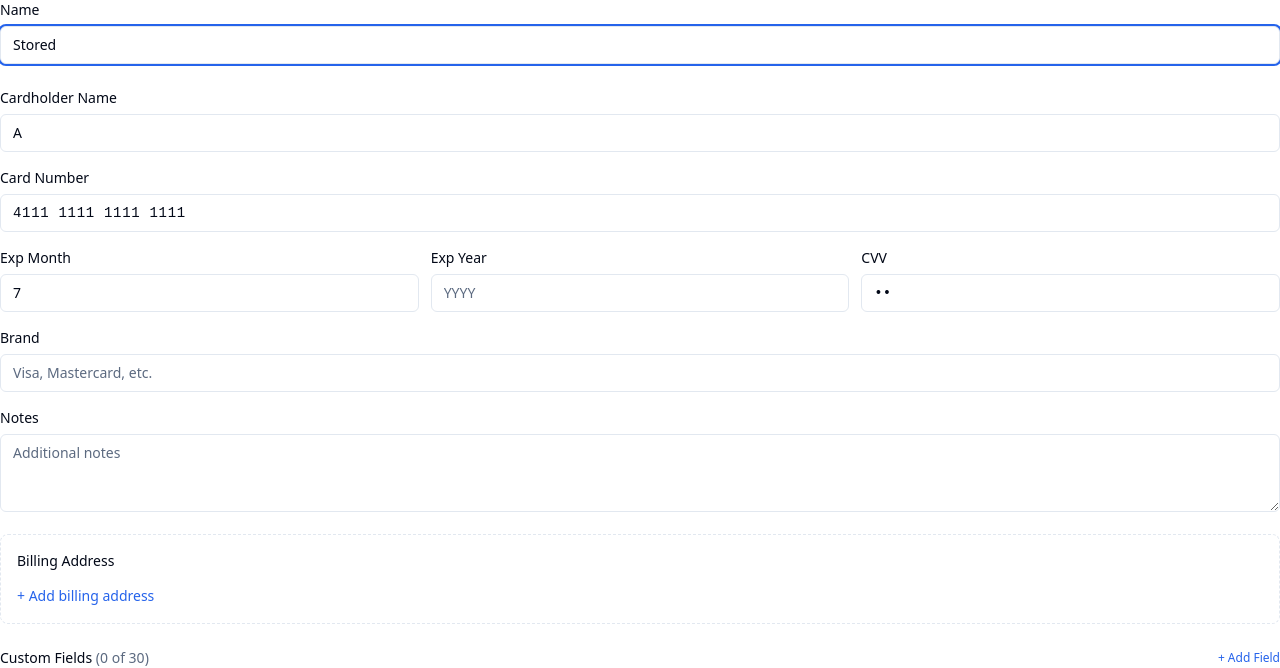
Scenario: untouched stored values never block a save › still applies the rules to a value the person changes
The width and height of the screenshot is (1280, 668).
Type "1" into the password field with placeholder "CVV" at point(1071, 293), box left=861, top=274, right=1279, bottom=312
(page scrolled)
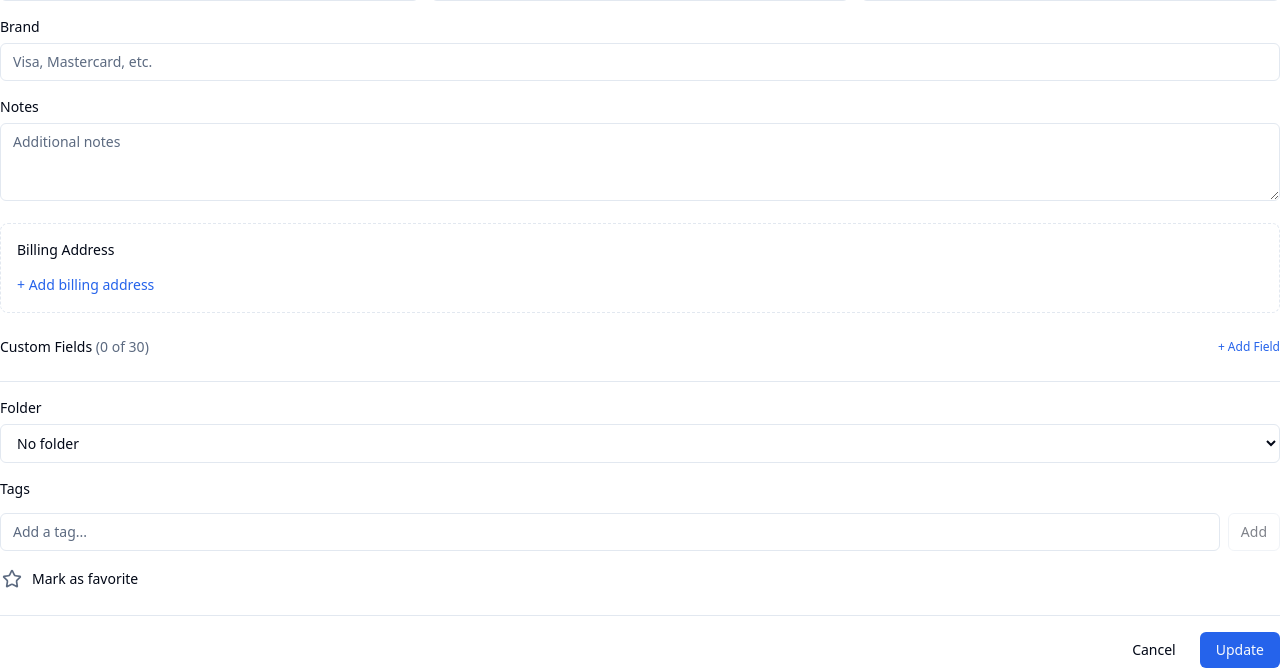
Click the button "Update" at point(1240, 650), box left=1200, top=632, right=1279, bottom=667
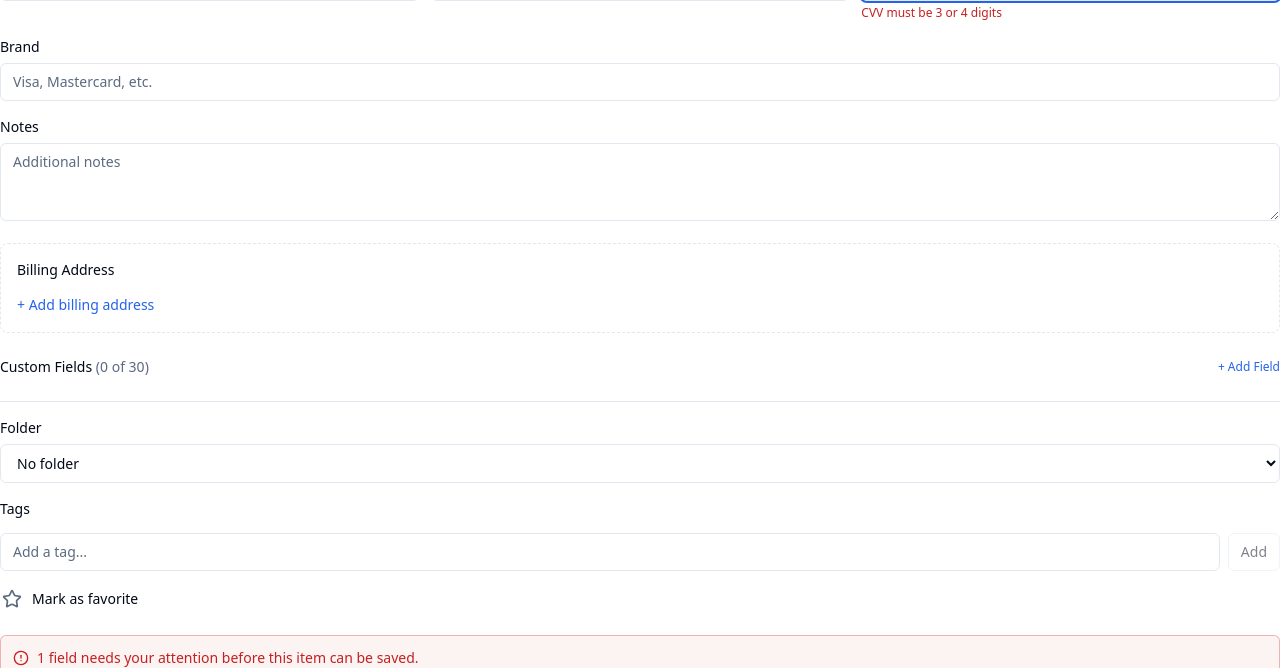
Result: the text "CVV must be 3 or 4 digits" is shown at left=861, top=4, right=1002, bottom=21
